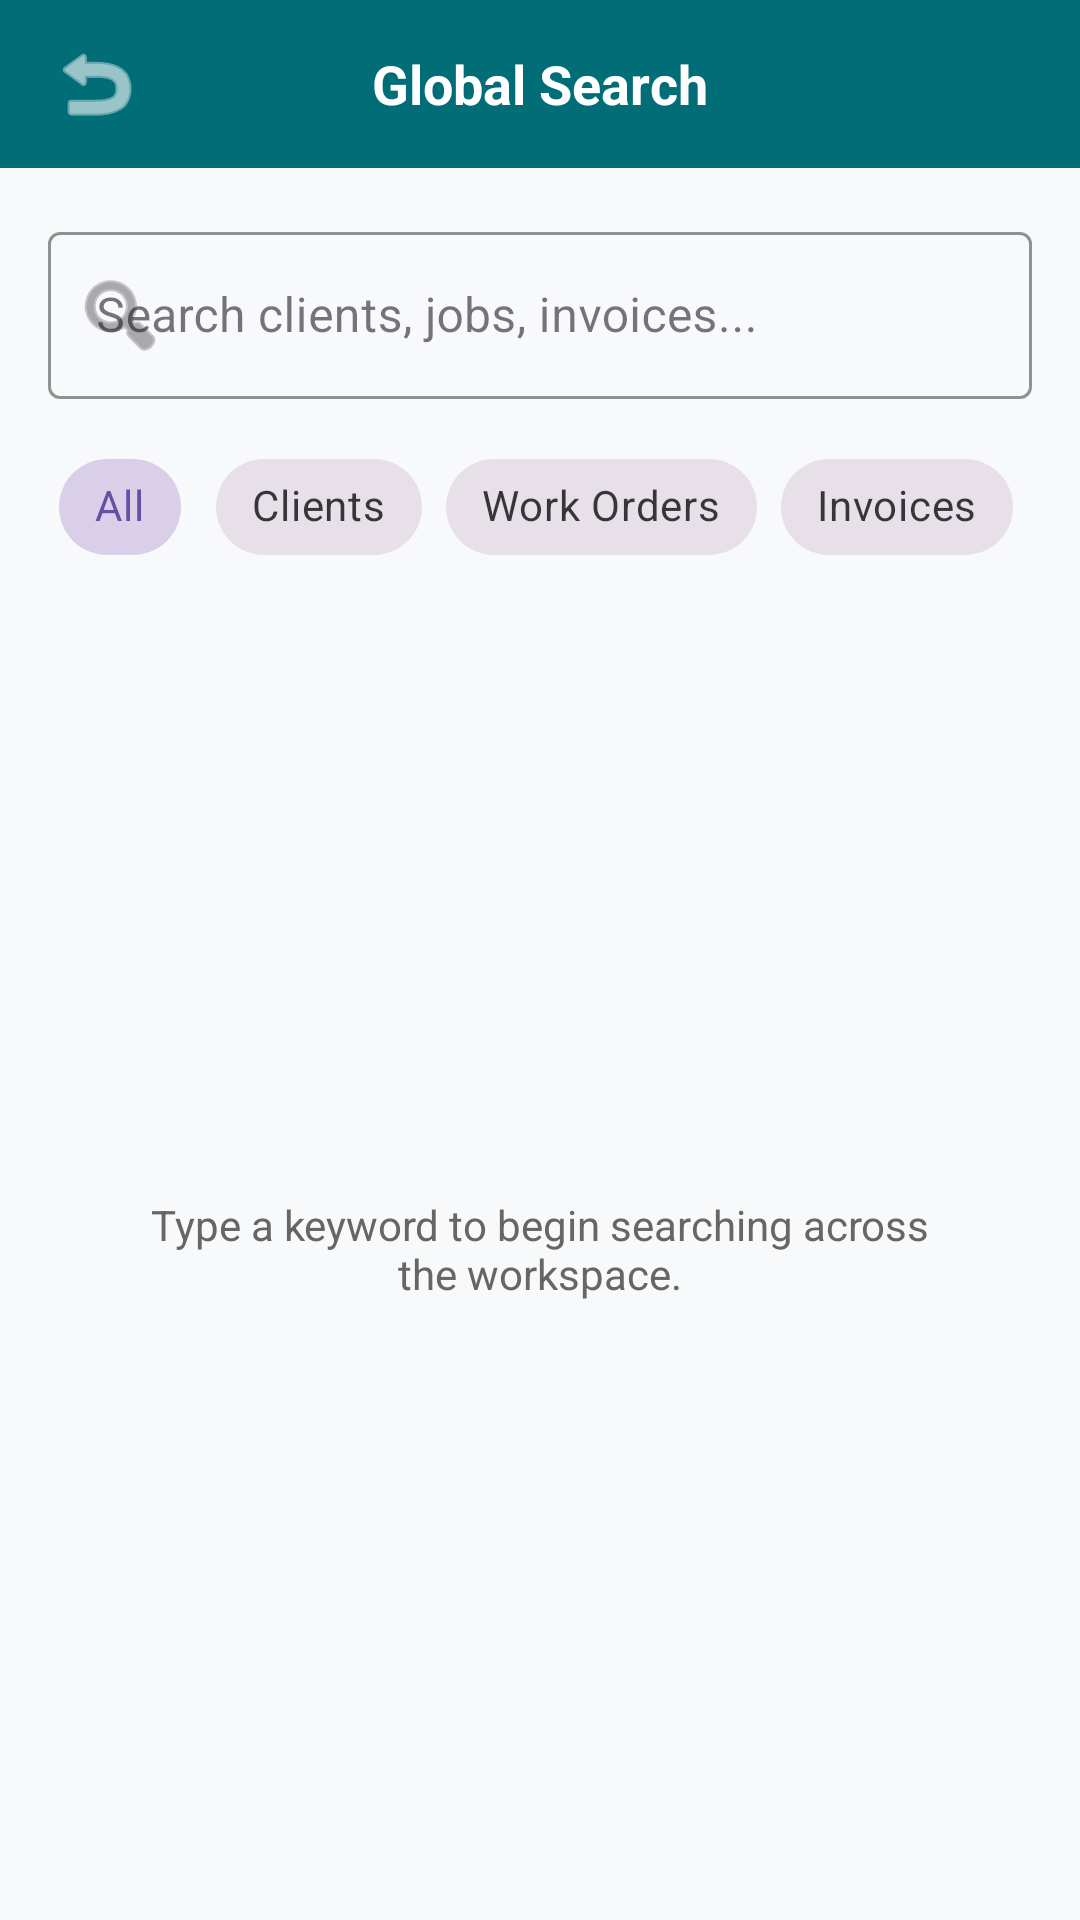

Point at icon controls on the screen. Image size 1080px x 1920px, points as point (x, y).
Back: point (97, 84)
